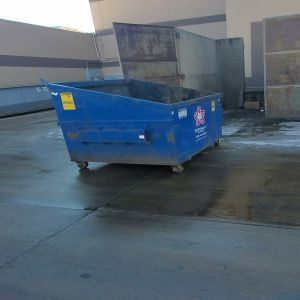Dumpster: (44, 80, 230, 183)
